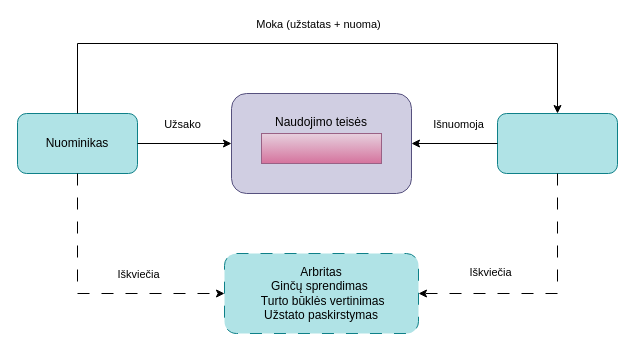
The diagram is 635 pixels wide and 351 high, and some of its shapes have lost their labels. The shapes that lost their labels are listed below. From the top down, each one's centre as x and y in pixels, then its label:
pixel 321 148: Turtas
pixel 557 143: Nuomotojas
